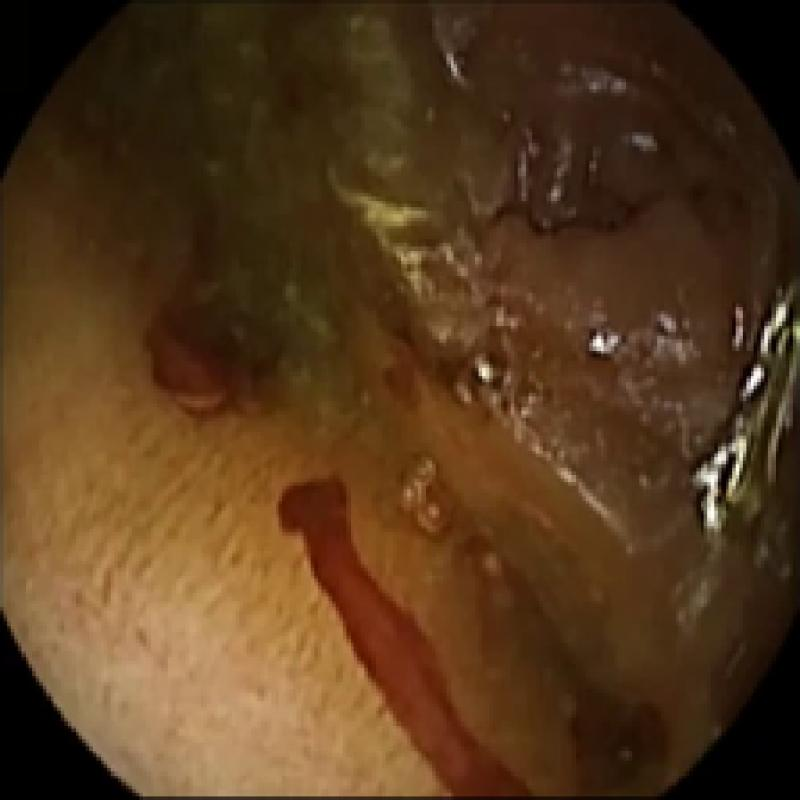bleeding: (278, 480, 512, 797), (143, 215, 267, 416), (493, 157, 668, 239), (556, 683, 676, 780)
